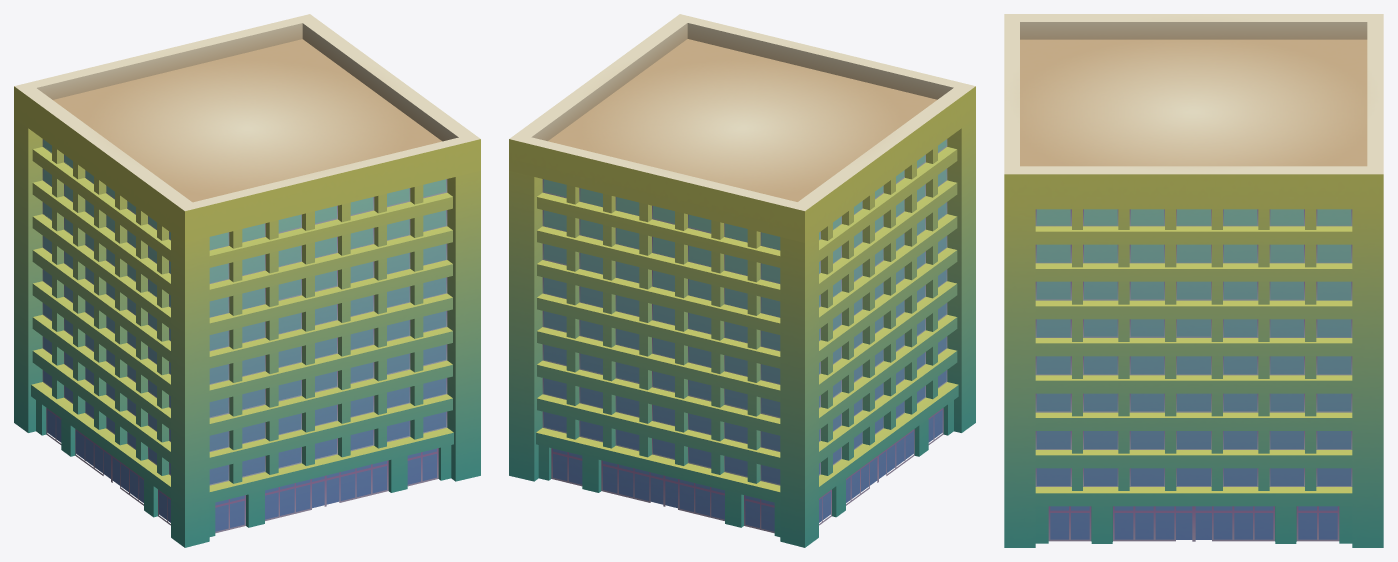
The picture shows the model from 3 angles, left to right: view 1: azimuth 30°, elevation 25°; view 2: azimuth 150°, elevation 25°; view 3: azimuth 270°, elevation 25°; orthographic projection. The views are drawn at different scales.
Visible parts, largest first — view 1: SM_9F_04; view 2: SM_9F_04; view 3: SM_9F_04.
Boxes of the visible parts, bbox=[...] form: SM_9F_04: bbox=[14, 14, 480, 547]; SM_9F_04: bbox=[509, 14, 975, 547]; SM_9F_04: bbox=[1004, 14, 1383, 547].
Size of the model in its own units: 28.05 by 28.05 by 30.51.
